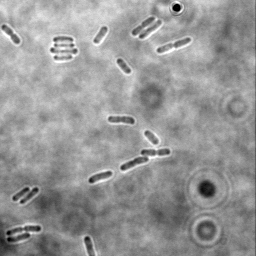Dividing: (156, 36, 193, 54), (130, 15, 156, 37), (138, 19, 164, 40), (119, 155, 150, 172), (1, 23, 22, 46), (5, 223, 42, 236), (107, 114, 137, 125), (140, 147, 172, 157)
Microcolony: (50, 35, 79, 63)
Rod: (88, 169, 114, 185), (20, 186, 41, 205), (11, 185, 30, 202), (83, 235, 98, 256), (116, 57, 133, 75), (93, 26, 109, 45), (143, 129, 161, 145)
